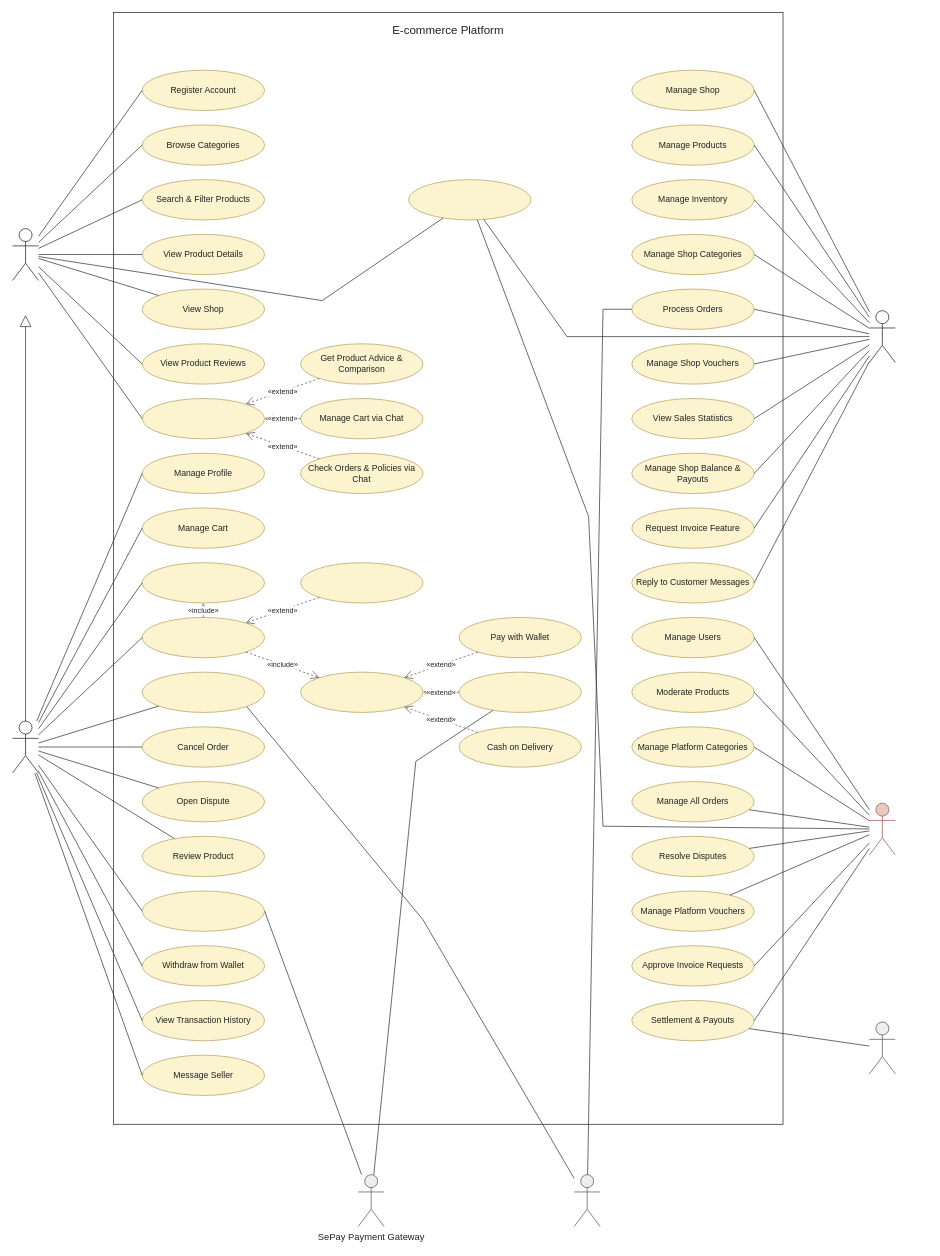
Some shapes in this 940 by 1256 pixel diagram are drawn without their labels. The centre of each missing label's shape, as x and y in pixels:
Admin: the point at 882,828
Apply Voucher: the point at 361,582
Buyer: the point at 25,746
Chat with AI Assistant: the point at 203,418
Guest: the point at 25,254
Log In: the point at 469,199
Manage Addresses: the point at 203,582
Pay for Order: the point at 361,691
Pay via SePay QR: the point at 519,691
Place Order: the point at 203,637
Seller: the point at 882,336
Settlement Scheduler: the point at 882,1047
Shipping Carrier: the point at 586,1200
Top Up Wallet: the point at 203,910
Track Order: the point at 203,691
